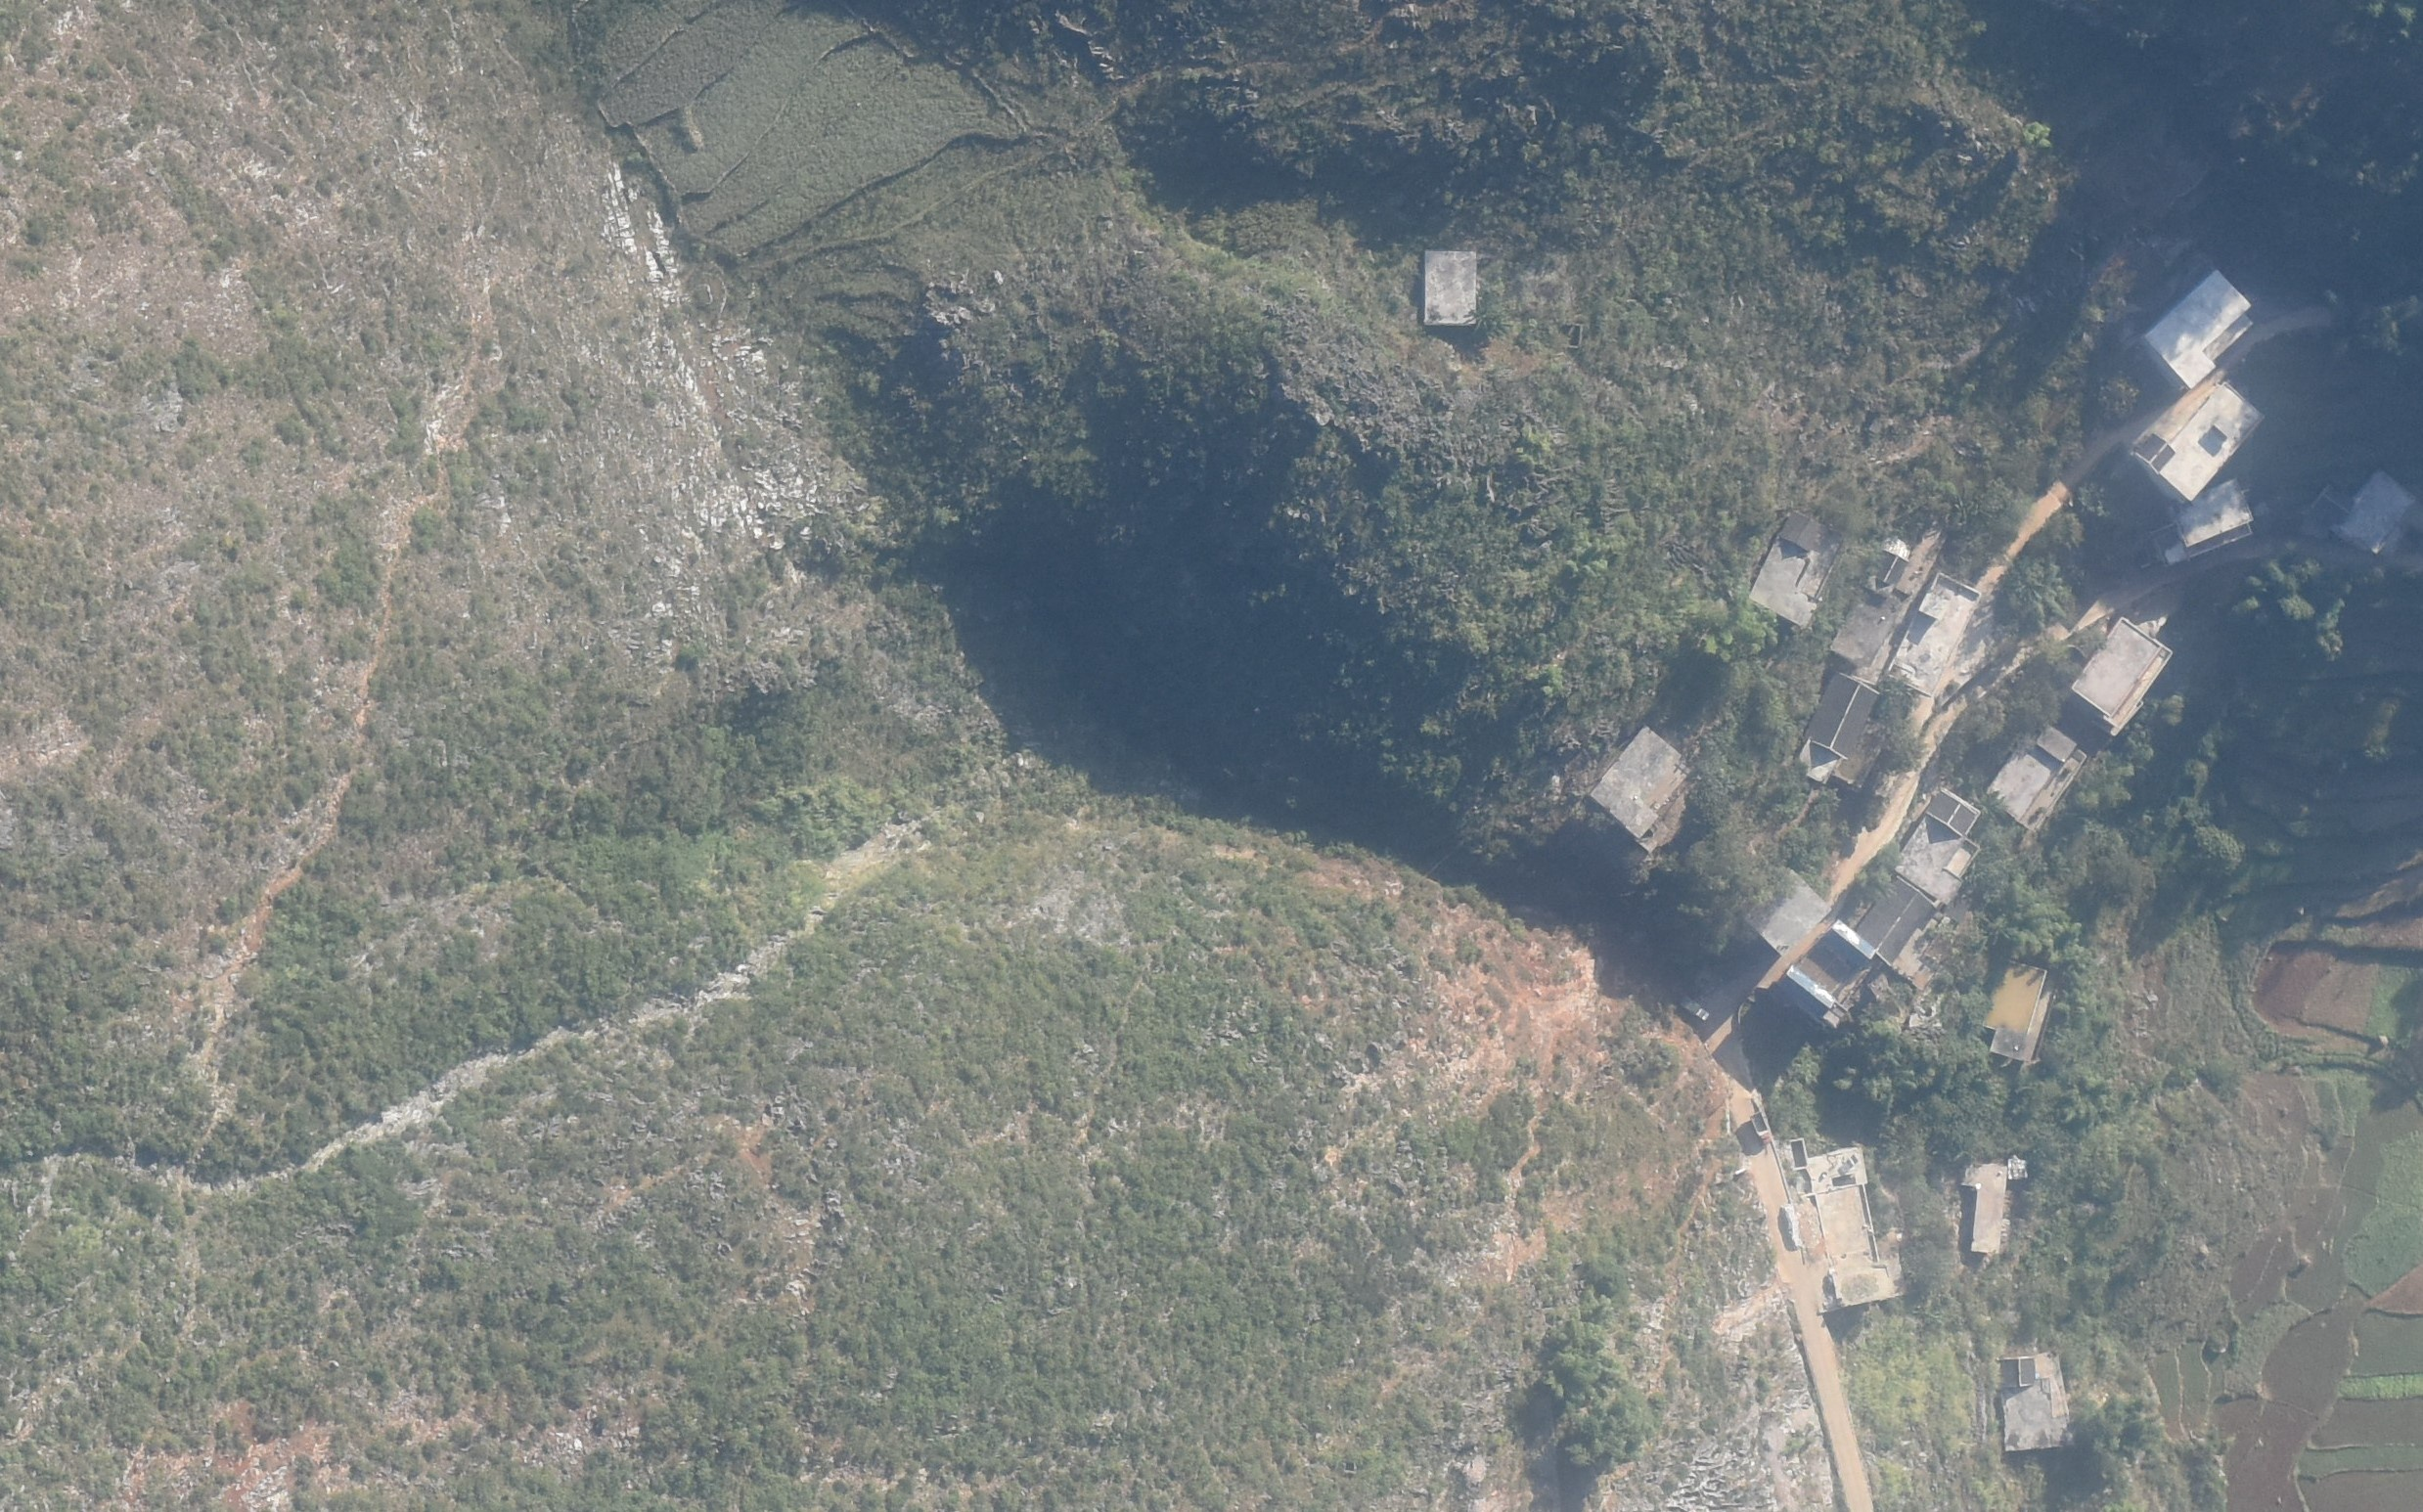building: (1803, 1143, 1902, 1310), (2132, 383, 2263, 503), (2141, 272, 2258, 388), (2068, 617, 2174, 737), (1587, 725, 1691, 838), (1890, 571, 1982, 695), (1986, 719, 2089, 829), (1744, 507, 1832, 629), (1829, 547, 1911, 678), (1893, 789, 1982, 906), (1791, 674, 1880, 784), (2310, 470, 2416, 554), (1979, 958, 2059, 1066), (1745, 867, 1831, 960), (1852, 876, 1937, 969), (2003, 1350, 2068, 1451), (2172, 479, 2254, 556), (1425, 244, 1477, 327), (1963, 1158, 2007, 1252), (1784, 963, 1834, 1016), (1826, 920, 1874, 967)
vehicle: (1679, 993, 1707, 1024)
